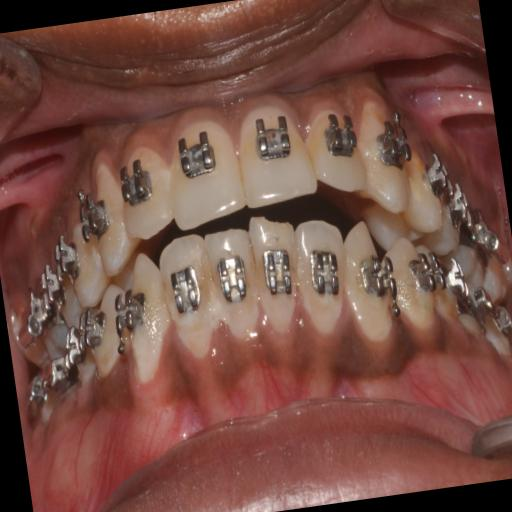correct_brace: (248, 108, 298, 172), (172, 124, 222, 186), (114, 151, 159, 212), (212, 246, 254, 310), (322, 106, 364, 168), (165, 260, 206, 322), (257, 241, 299, 300), (305, 244, 347, 300)
incorrect_brace: (156, 230, 222, 364), (294, 212, 358, 338), (302, 104, 373, 210), (112, 132, 176, 248)
